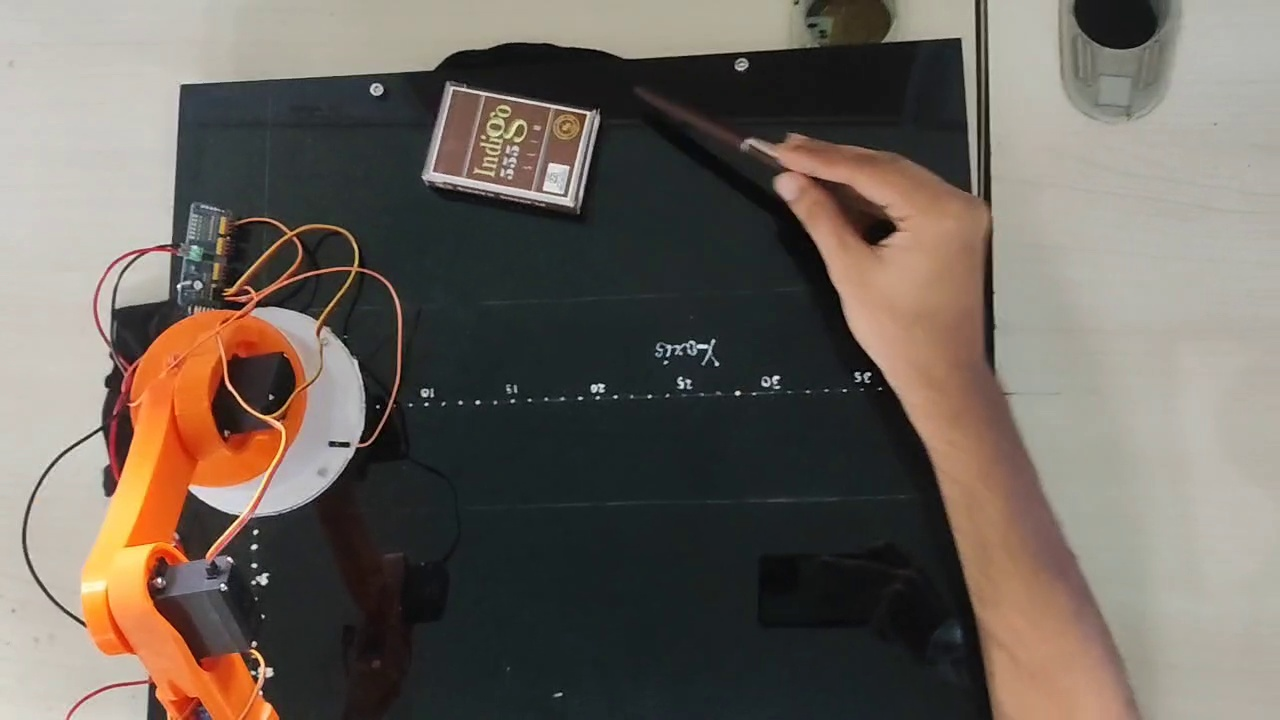BEX: (431, 87, 588, 198)
